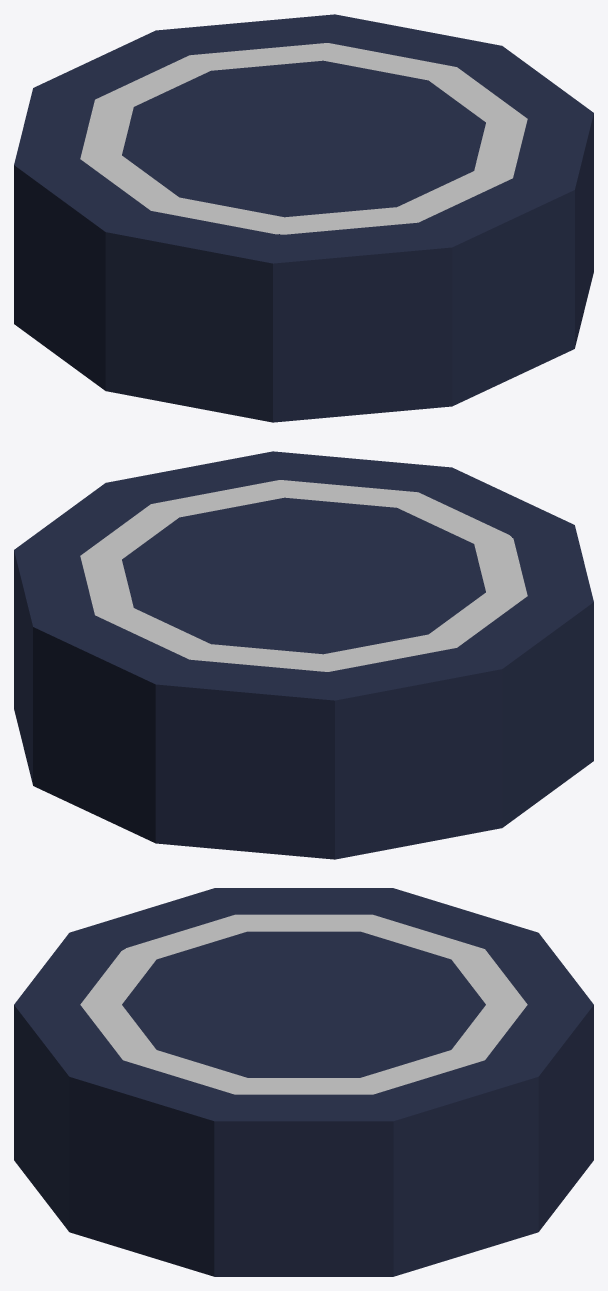
Rendered from puck_normal_final.fbx.
The picture shows the model from 3 angles, top to bottom: view 1: azimuth 30°, elevation 25°; view 2: azimuth 150°, elevation 25°; view 3: azimuth 270°, elevation 25°; orthographic projection. The views are drawn at different scales.
Parts seen in each view (by area): view 1: Normal Puck; view 2: Normal Puck; view 3: Normal Puck.
Boxes of the visible parts, x1,y1,x2,y2 form: Normal Puck: (14,14,593,422); Normal Puck: (14,451,593,859); Normal Puck: (14,888,593,1276).
Bounding box in the file's own units: 1.72 × 1.81 × 0.5347.
Materials: 1 (1 with a texture image).
